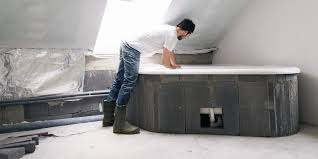bathub: (128, 61, 311, 137)
